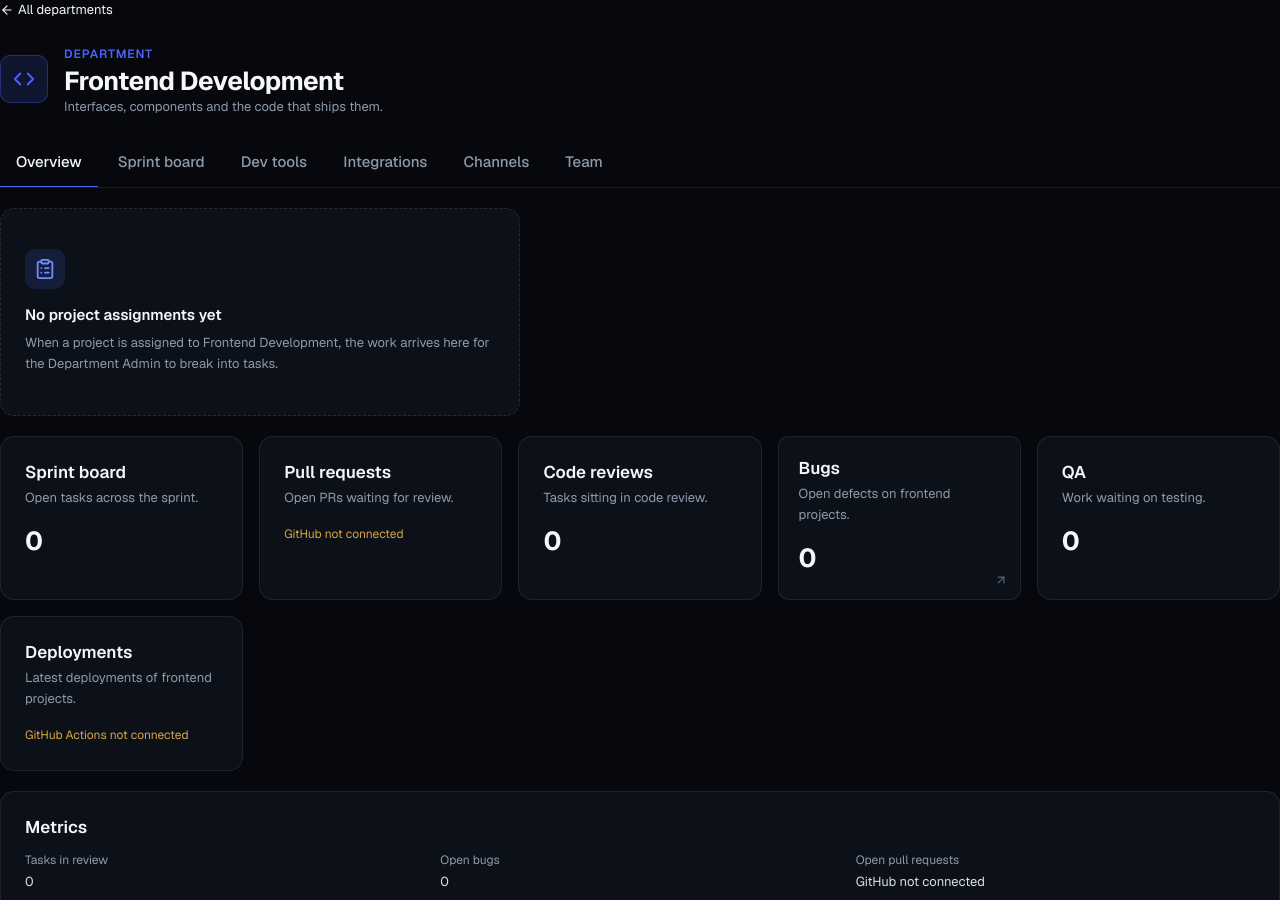
Test: Department environment: new capabilities › shows the department's real channels from the database
What coordinates should you click on to do the following:
click the tab "Channels"
I would click on:
 (496, 163)
Its box is [447, 138, 545, 188].
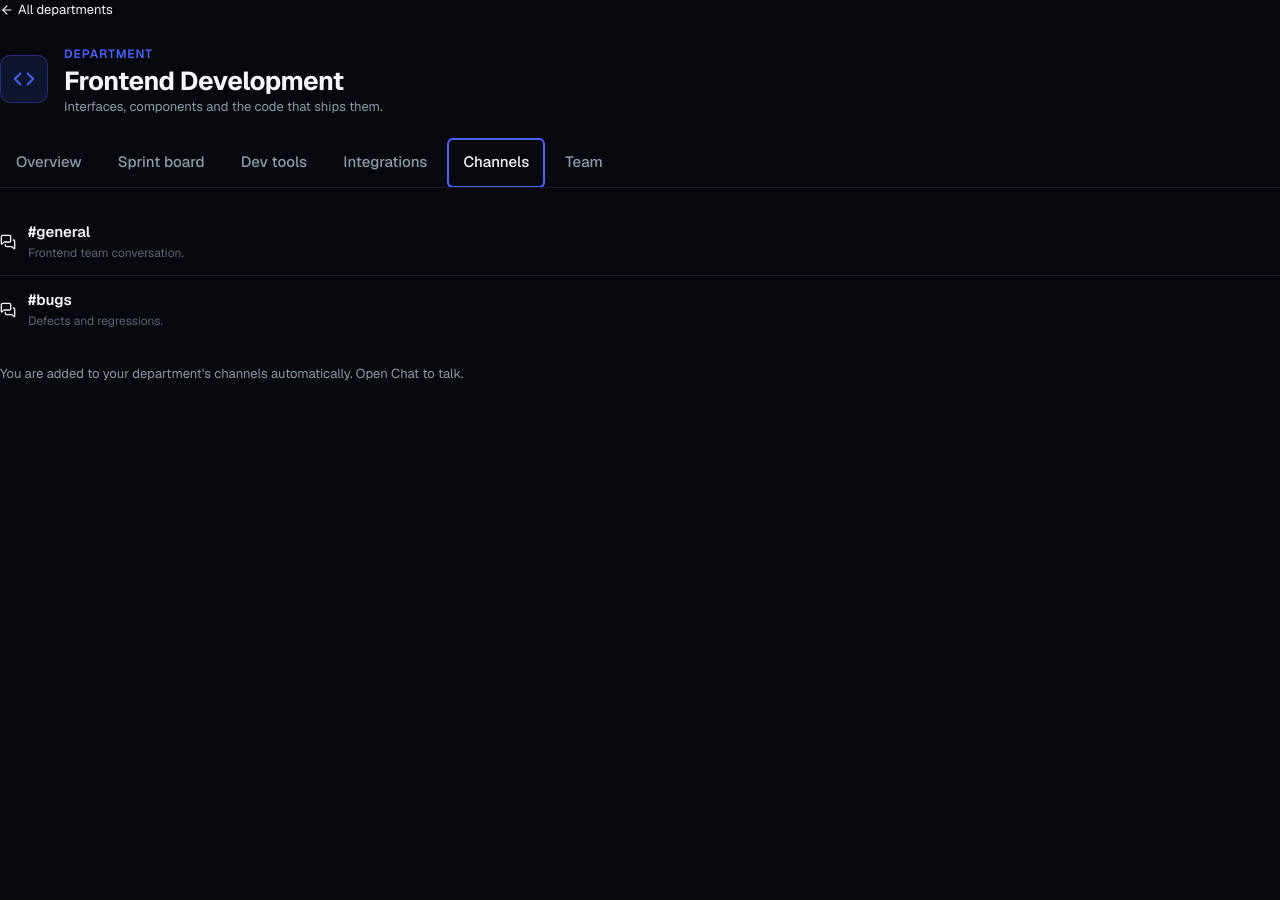
Expected: the text "#general" is shown, [28, 222, 90, 241]
Expected: the text "Defects and regressions." is shown, [28, 313, 163, 329]
